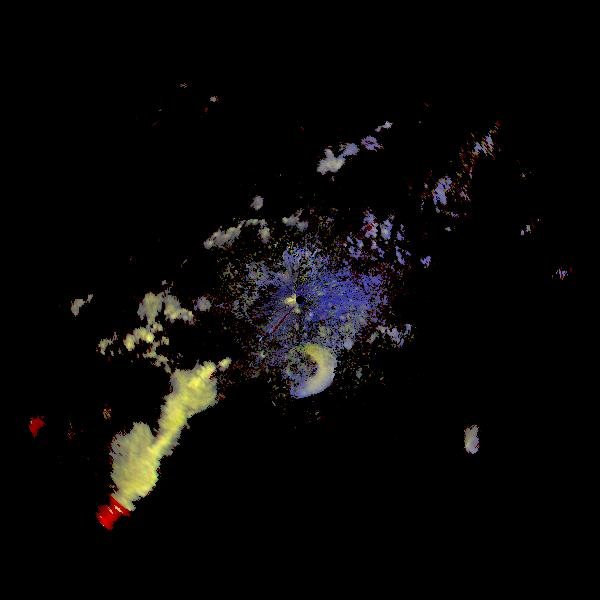roost: (274, 336, 337, 399), (464, 419, 512, 467)
